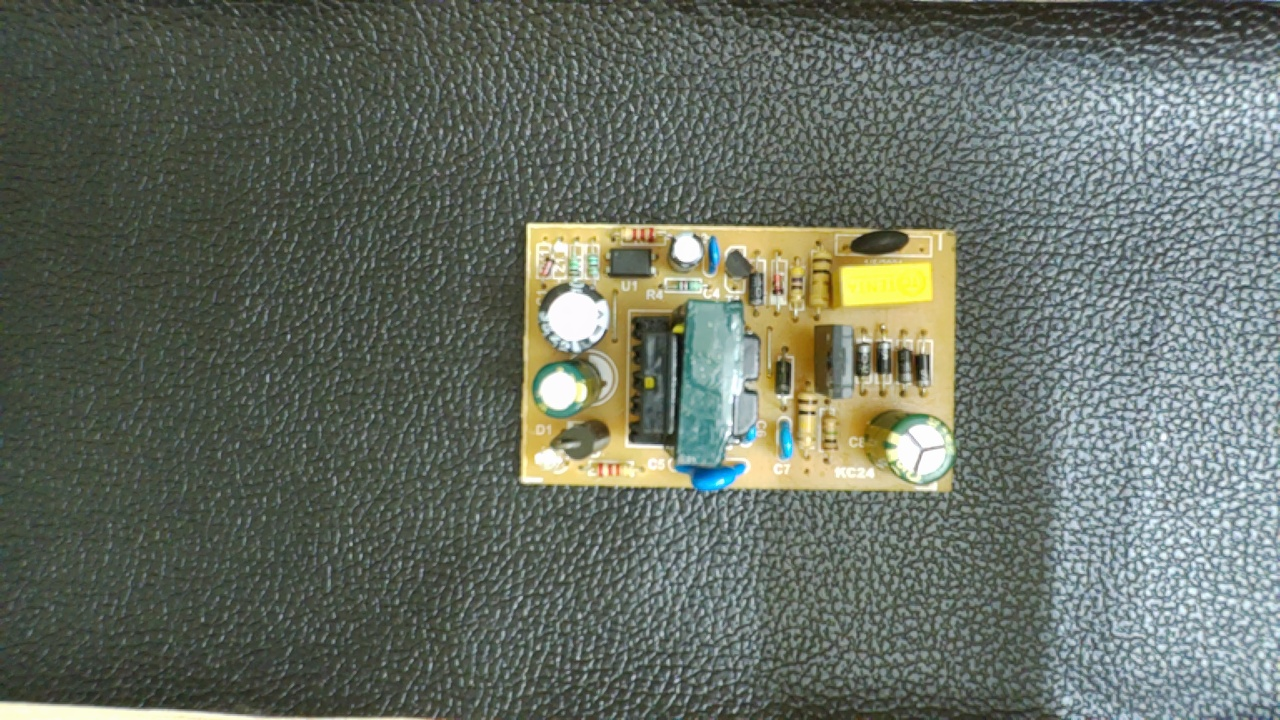fuse: (845, 227, 914, 255)
hv_capacitor: (866, 405, 954, 486)
mov: (674, 461, 749, 491)
optocoupler: (603, 245, 665, 279)
